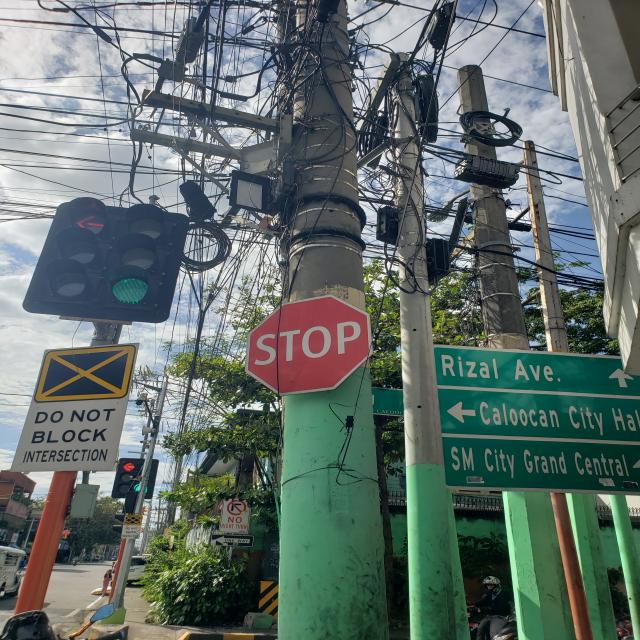stop-sign: (244, 294, 374, 396)
